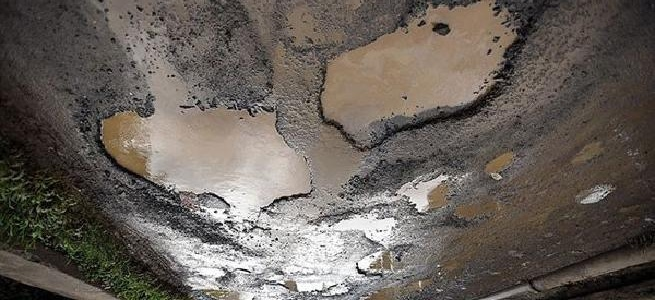pothole: (316, 0, 554, 154), (94, 102, 315, 220), (401, 171, 462, 216), (446, 197, 501, 229), (353, 244, 400, 279), (481, 149, 522, 181), (274, 279, 337, 295), (193, 265, 228, 285)
